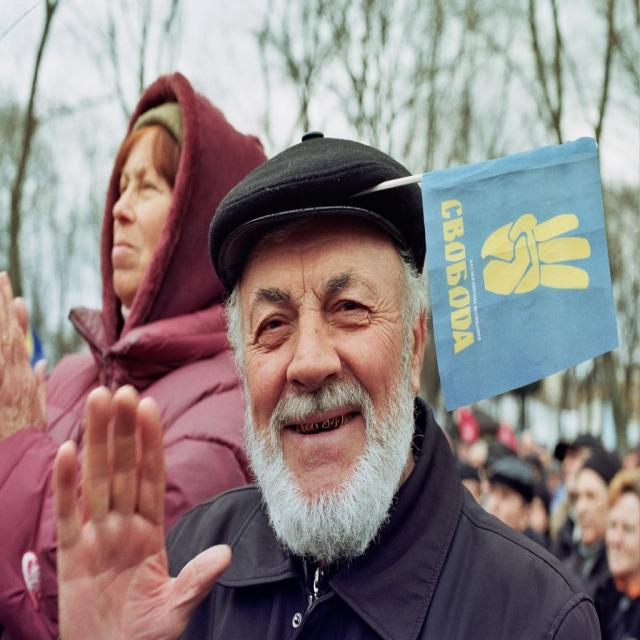Hat: (210, 130, 426, 291)
